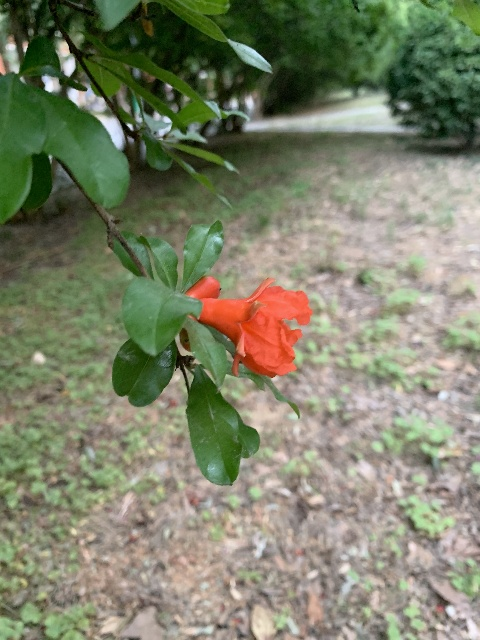bud: (186, 274, 220, 299)
flower: (185, 276, 312, 378)
